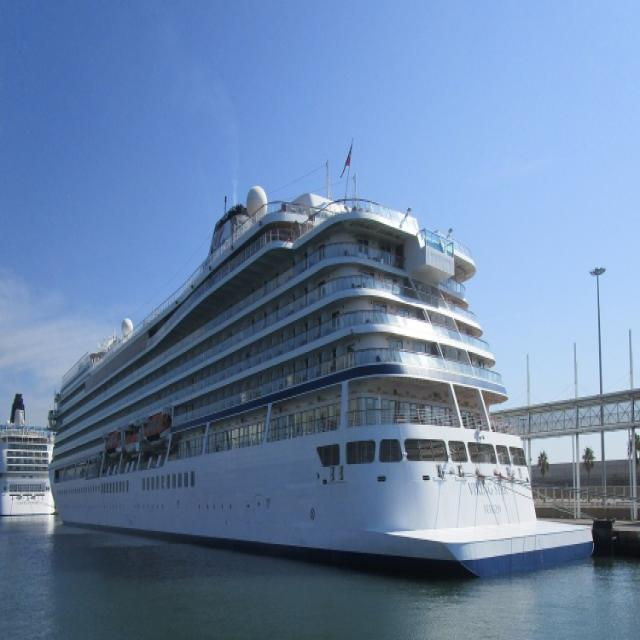cruises: (48, 168, 597, 577), (1, 385, 60, 520)
